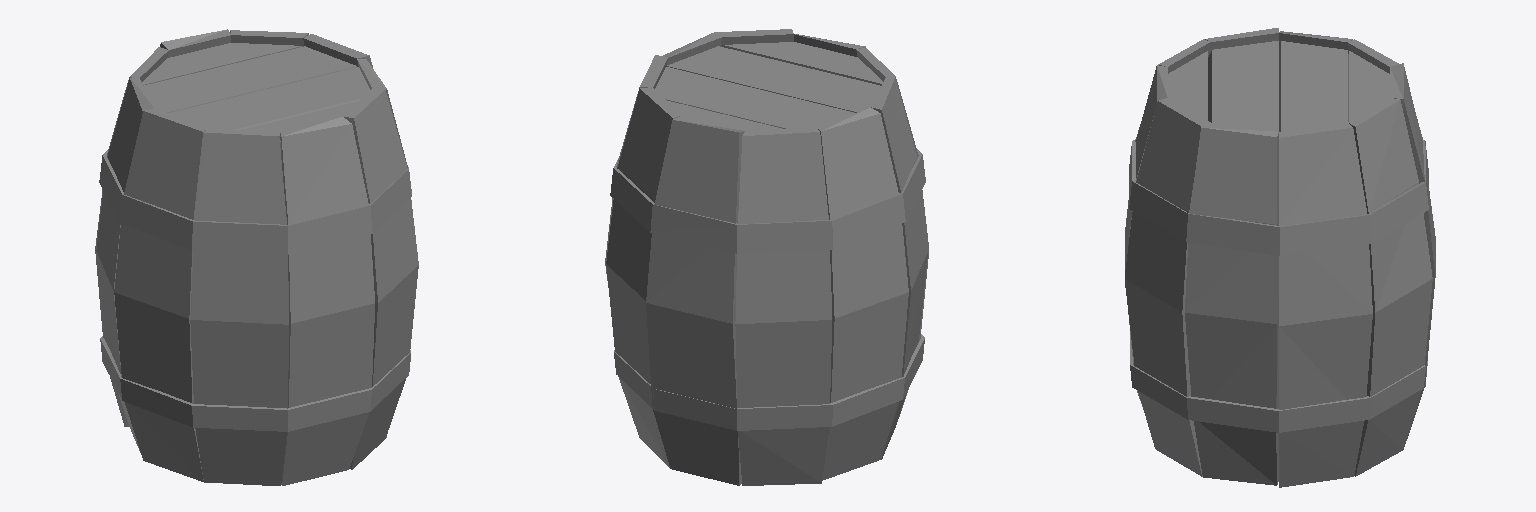
The model's file is barrel.obj.
3 views of the same model, side by side, from view 1: azimuth 30°, elevation 25°; view 2: azimuth 150°, elevation 25°; view 3: azimuth 270°, elevation 25° (orthographic).
Size of the model in its own units: 0.7791 by 0.924 by 0.7369.